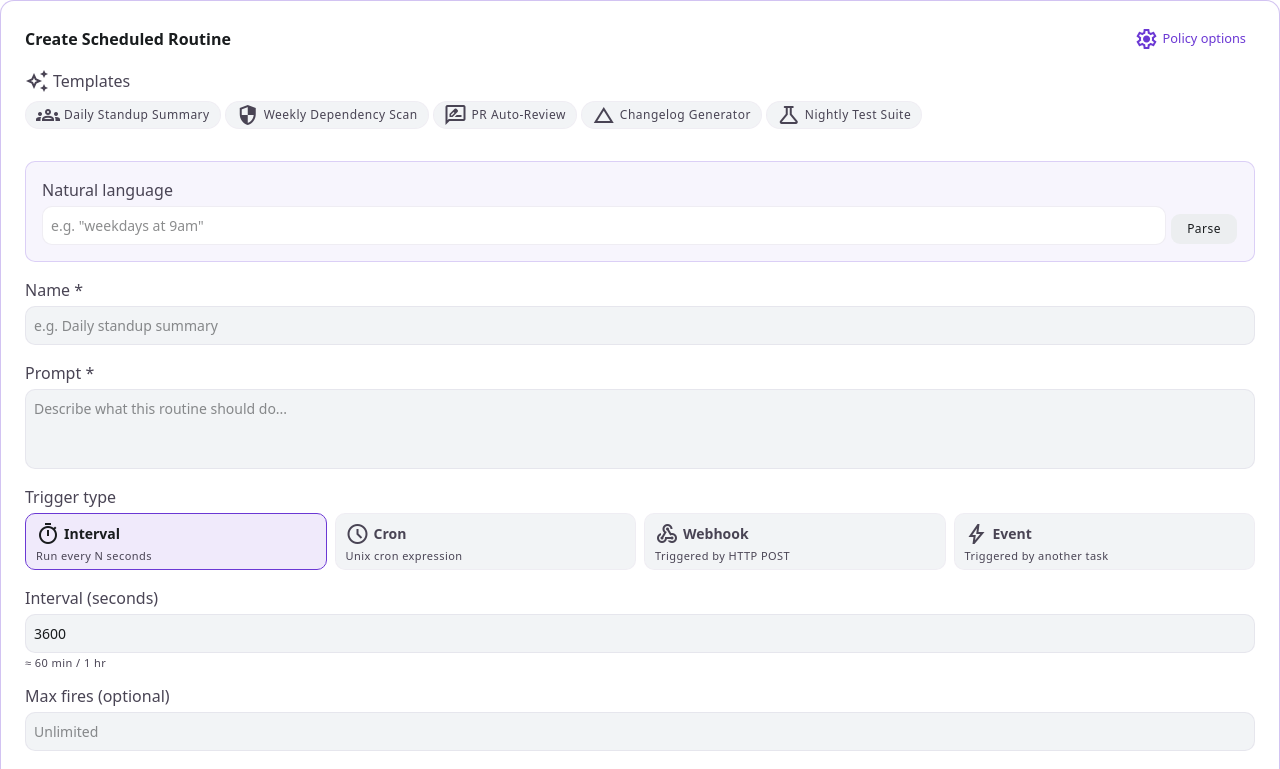
Test: ScheduleForm › validates cron via previewCron API
Click the radio button labelled "Cron Unix cron expression". click: (390, 534)
box: [334,513,636,570]
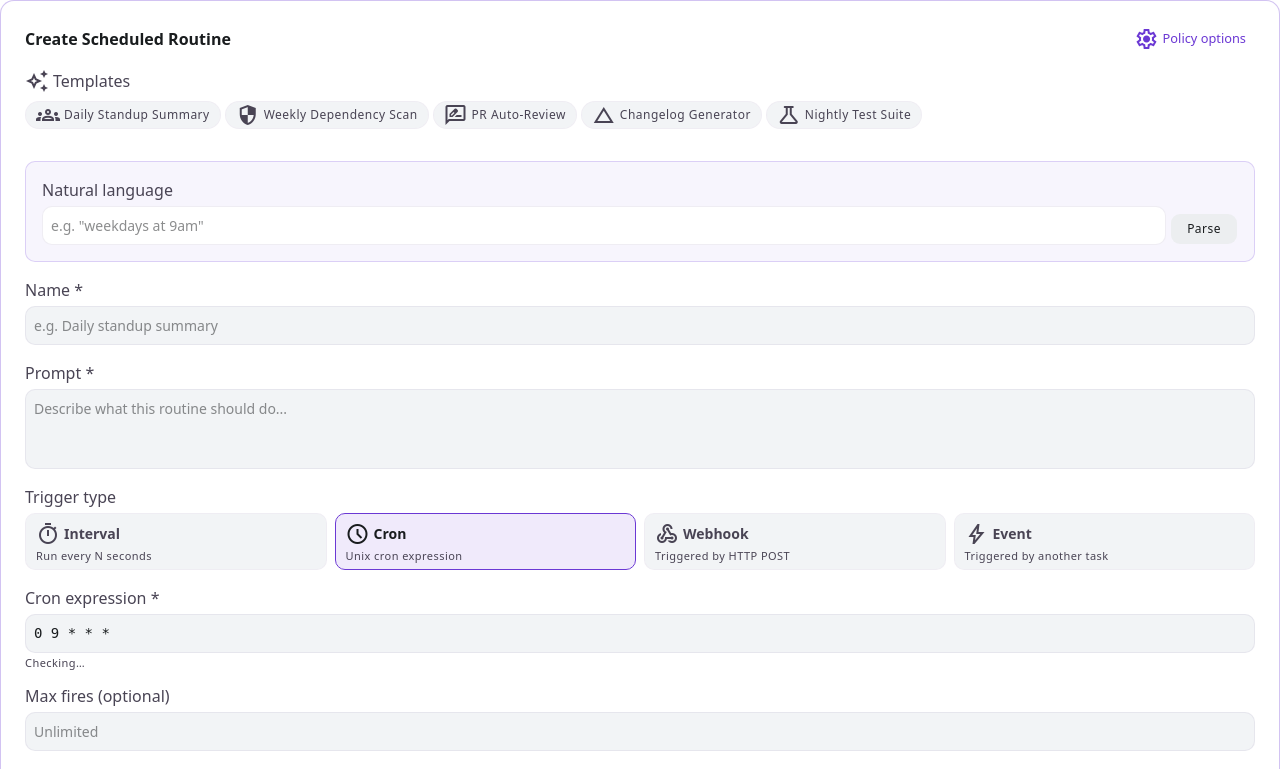
Type "bad" into the field with placeholder "0 9 * * *". click: (640, 634)
box: [25,614,1255,653]
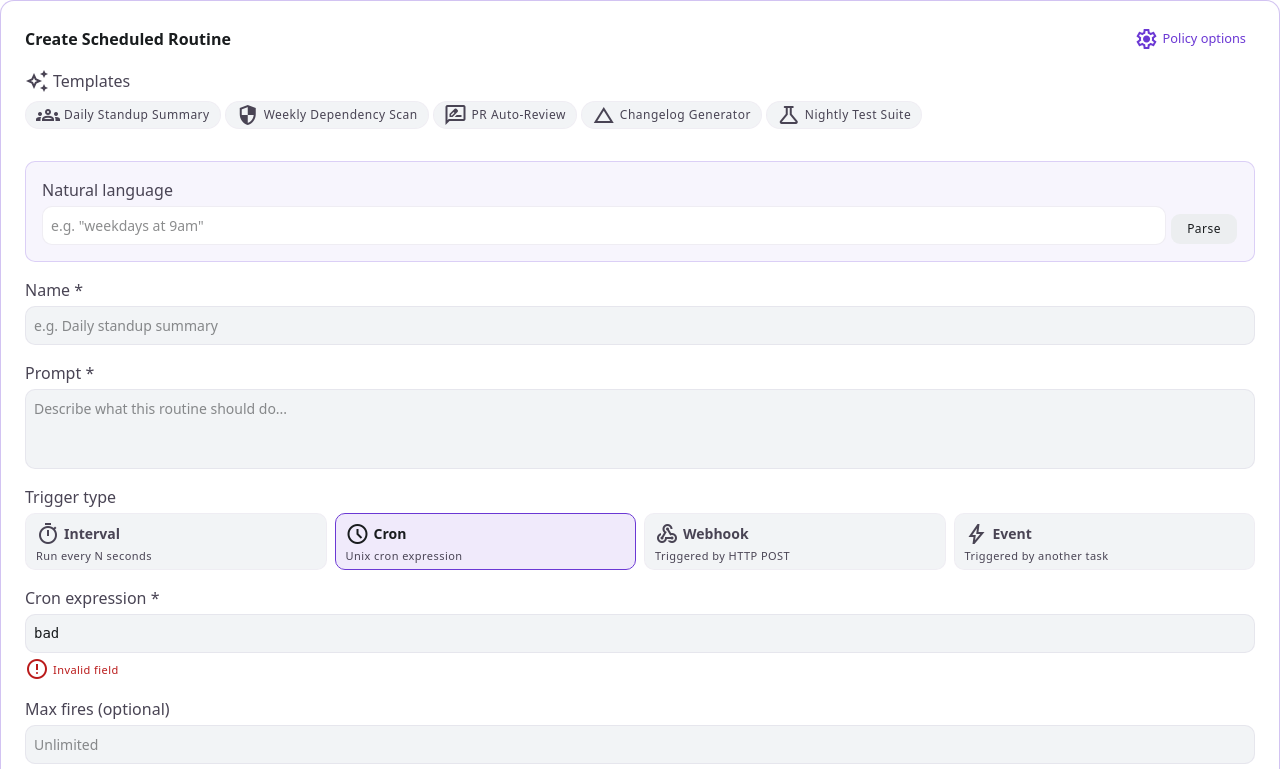
expect the text "Invalid field" is shown: met, box [25,655,119,683]
